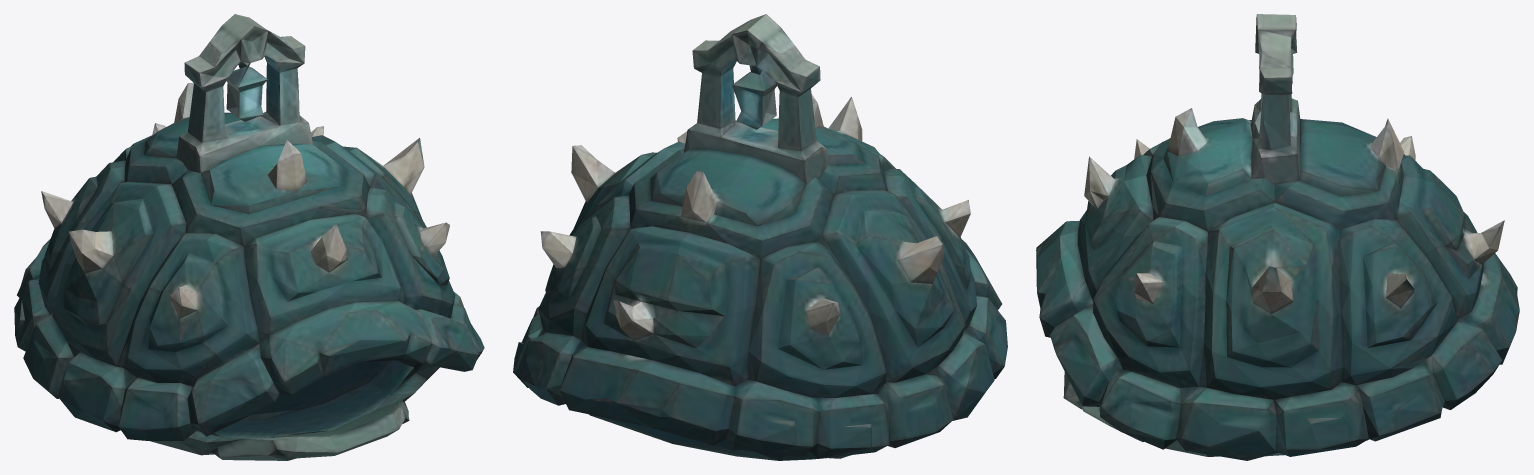
Rendered from foe_lanternTortoise.glb.
The picture shows the model from 3 angles, left to right: view 1: azimuth 30°, elevation 25°; view 2: azimuth 150°, elevation 25°; view 3: azimuth 270°, elevation 25°; orthographic projection. The views are drawn at different scales.
Parts seen in each view (by area): view 1: tripo_node_ce6bd42e-3a98-4c8a-b3f6-0b2938ec4855.001; view 2: tripo_node_ce6bd42e-3a98-4c8a-b3f6-0b2938ec4855.001; view 3: tripo_node_ce6bd42e-3a98-4c8a-b3f6-0b2938ec4855.001.
Part boxes in pixels (bbox=[...]): tripo_node_ce6bd42e-3a98-4c8a-b3f6-0b2938ec4855.001: bbox=[14, 14, 484, 460]; tripo_node_ce6bd42e-3a98-4c8a-b3f6-0b2938ec4855.001: bbox=[513, 14, 1007, 460]; tripo_node_ce6bd42e-3a98-4c8a-b3f6-0b2938ec4855.001: bbox=[1036, 14, 1519, 460].
Bounding box in the file's own units: 0.9464 × 0.9024 × 0.9995.
1 material, 1 textured.
